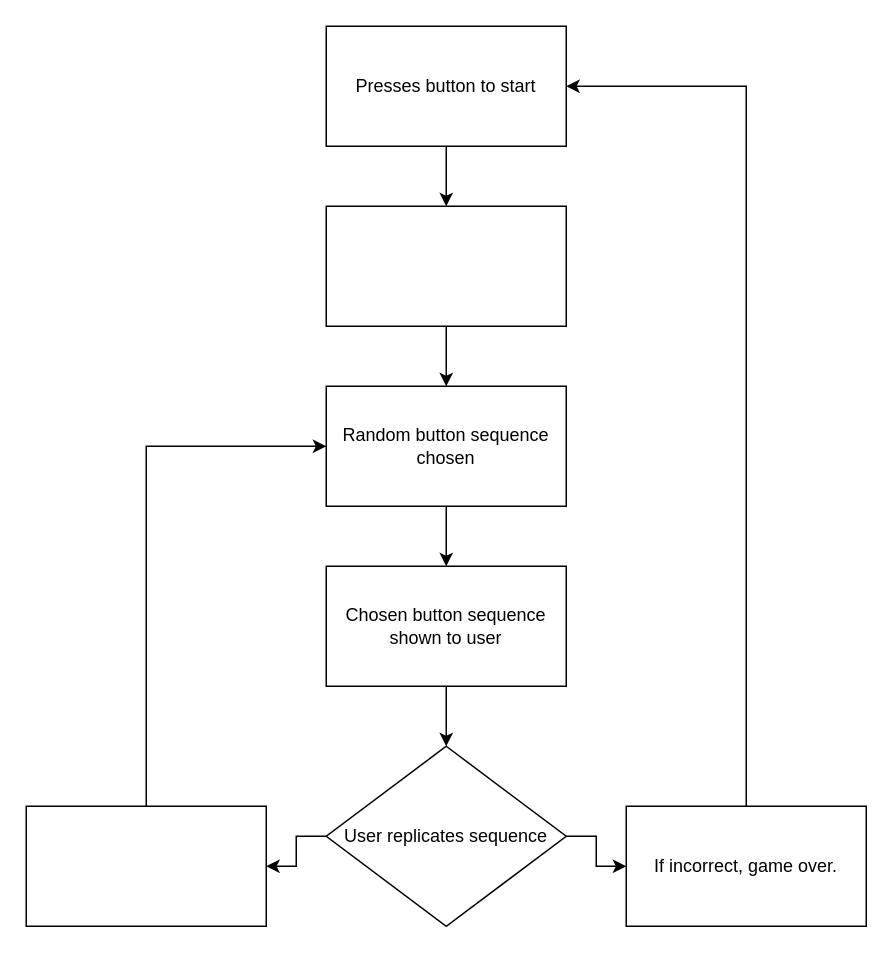
This 893x953 diagram has some shape labels left out. Here are the shapes that lost their labels. From the top down, the box of each, then its label:
(325, 205, 566, 326): Level 1 starts
(25, 805, 266, 926): If correct, increment level
